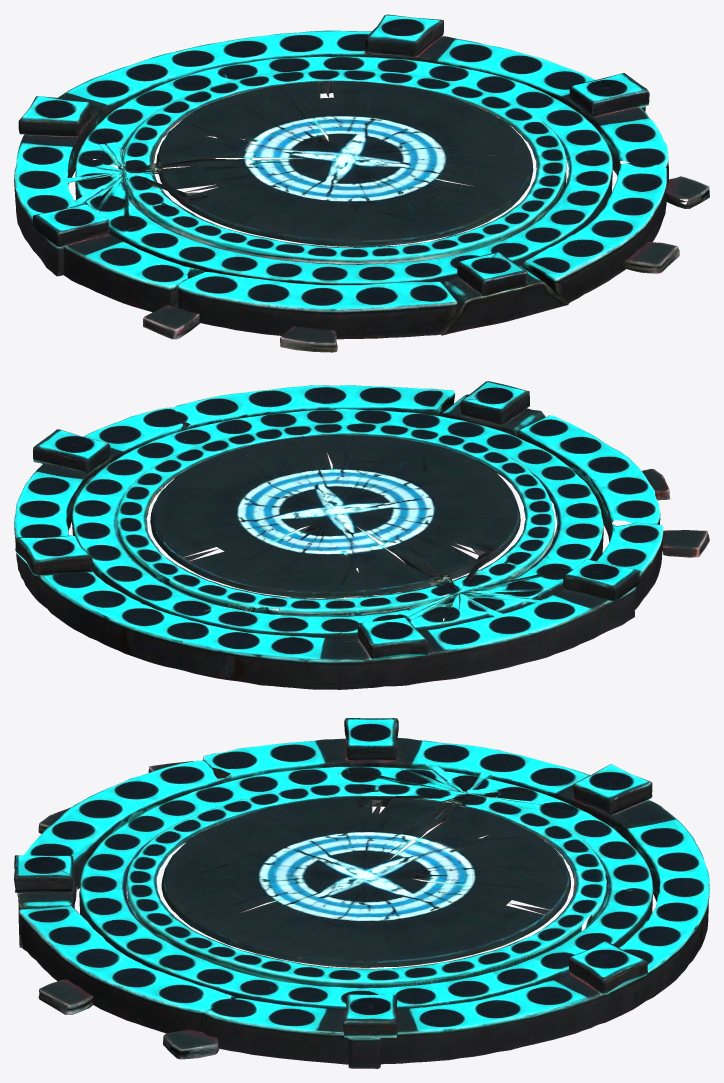
File: moon-arena.glb
The picture shows the model from 3 angles, top to bottom: view 1: azimuth 30°, elevation 25°; view 2: azimuth 150°, elevation 25°; view 3: azimuth 270°, elevation 25°; orthographic projection. The views are drawn at different scales.
Bounding box in the file's own units: 1 × 0.079 × 0.9723.
1 material, 1 textured.
